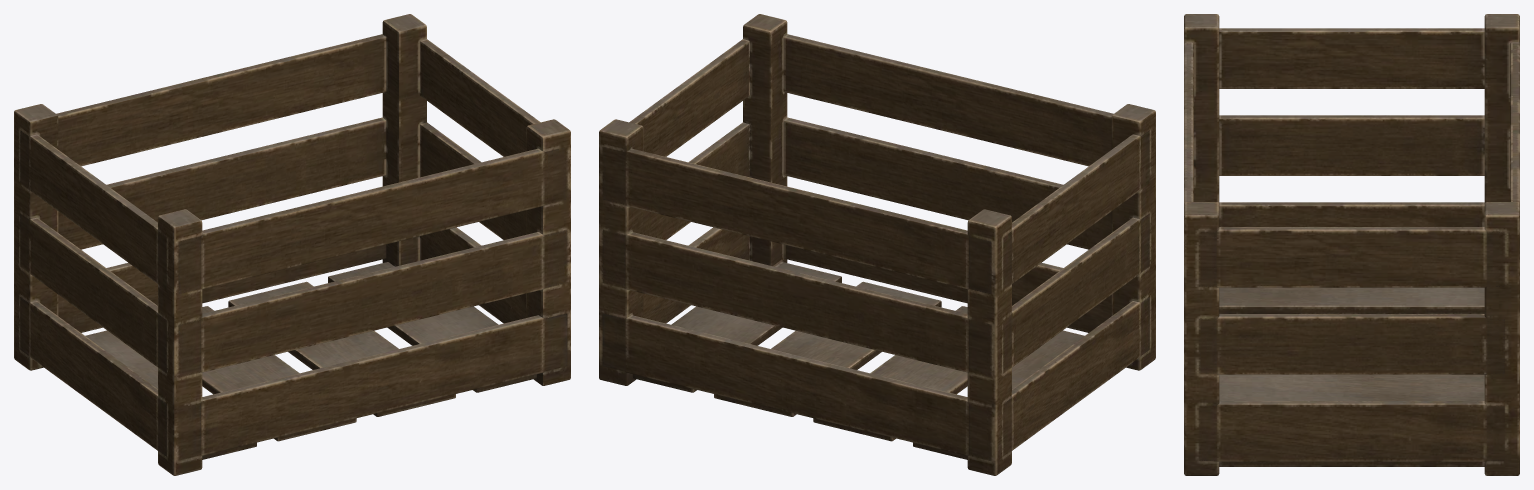
File: wood_crate.glb
3 renders of one model, left to right at view 1: azimuth 30°, elevation 25°; view 2: azimuth 150°, elevation 25°; view 3: azimuth 270°, elevation 25°, orthographic. The views are drawn at different scales.
Visible parts, largest first — view 1: wood_crate; view 2: wood_crate; view 3: wood_crate.
Part boxes in pixels (bbox=[...]): wood_crate: bbox=[14, 14, 570, 475]; wood_crate: bbox=[599, 14, 1155, 475]; wood_crate: bbox=[1184, 14, 1519, 475].
Size of the model in its own units: 0.6 by 0.36 by 0.42.
1 material, 1 textured.
